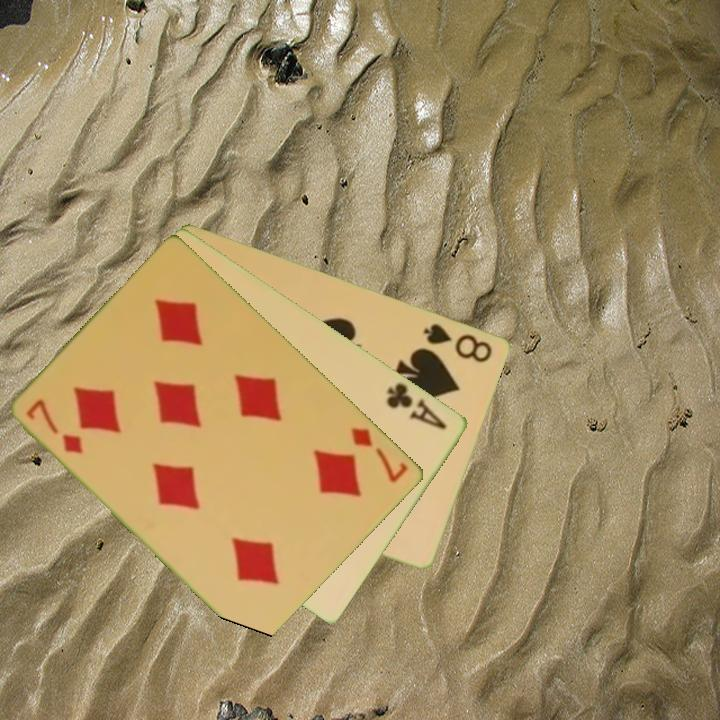7d: (348, 423, 411, 486), (23, 395, 87, 457)
8s: (420, 319, 496, 366)
Ac: (383, 378, 450, 433)
